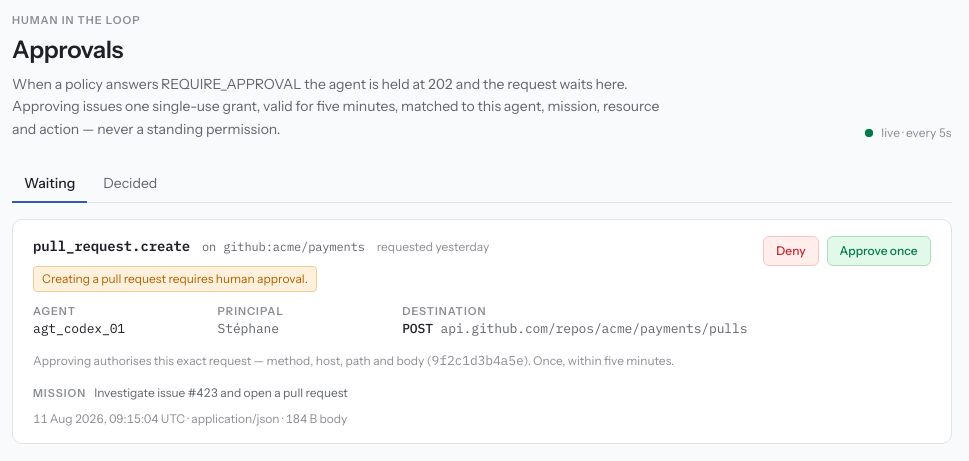
the approvals queue › shows the gateway’s refusal instead of pretending it worked
The width and height of the screenshot is (969, 461).
Click the button "Approve once" at {"x": 878, "y": 251}, box [826, 236, 930, 266]
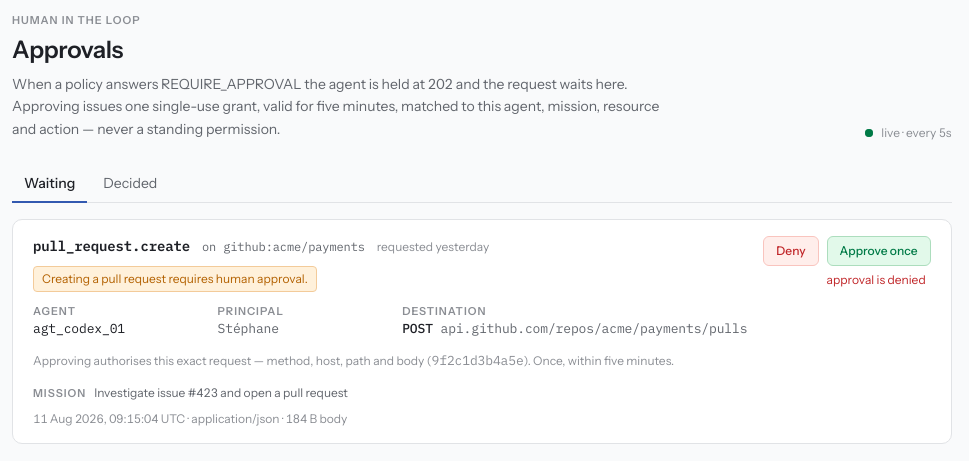
Result: the text "approval is denied" is shown at [826, 272, 930, 288]
